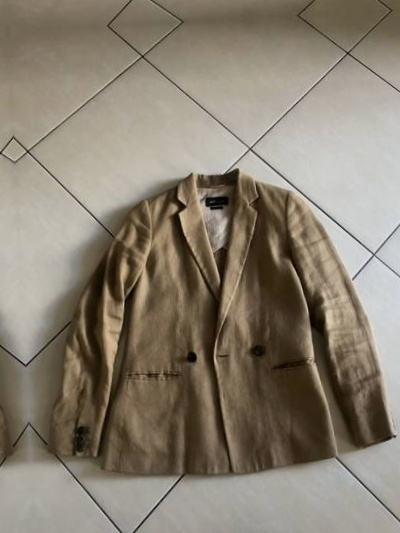Blazer: (18, 156, 400, 503), (0, 176, 30, 523)
